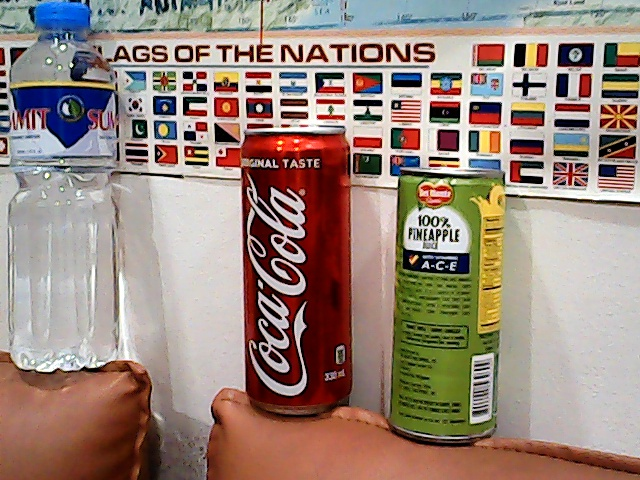Cola: (229, 122, 359, 418)
Pine Juice: (386, 155, 516, 457)
Summit Water: (1, 1, 133, 378)
